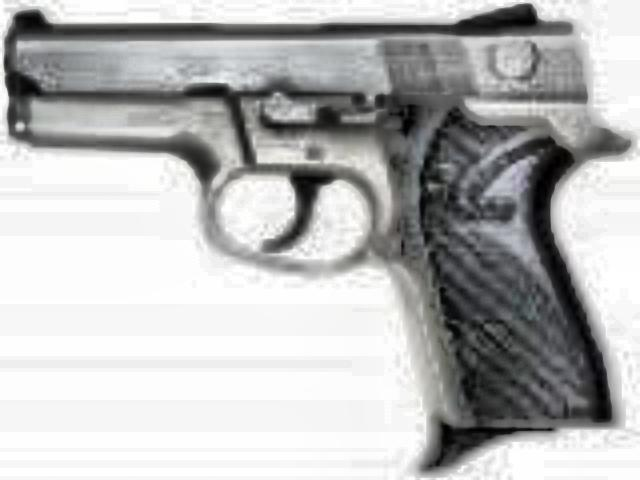pistol: (8, 0, 628, 456)
